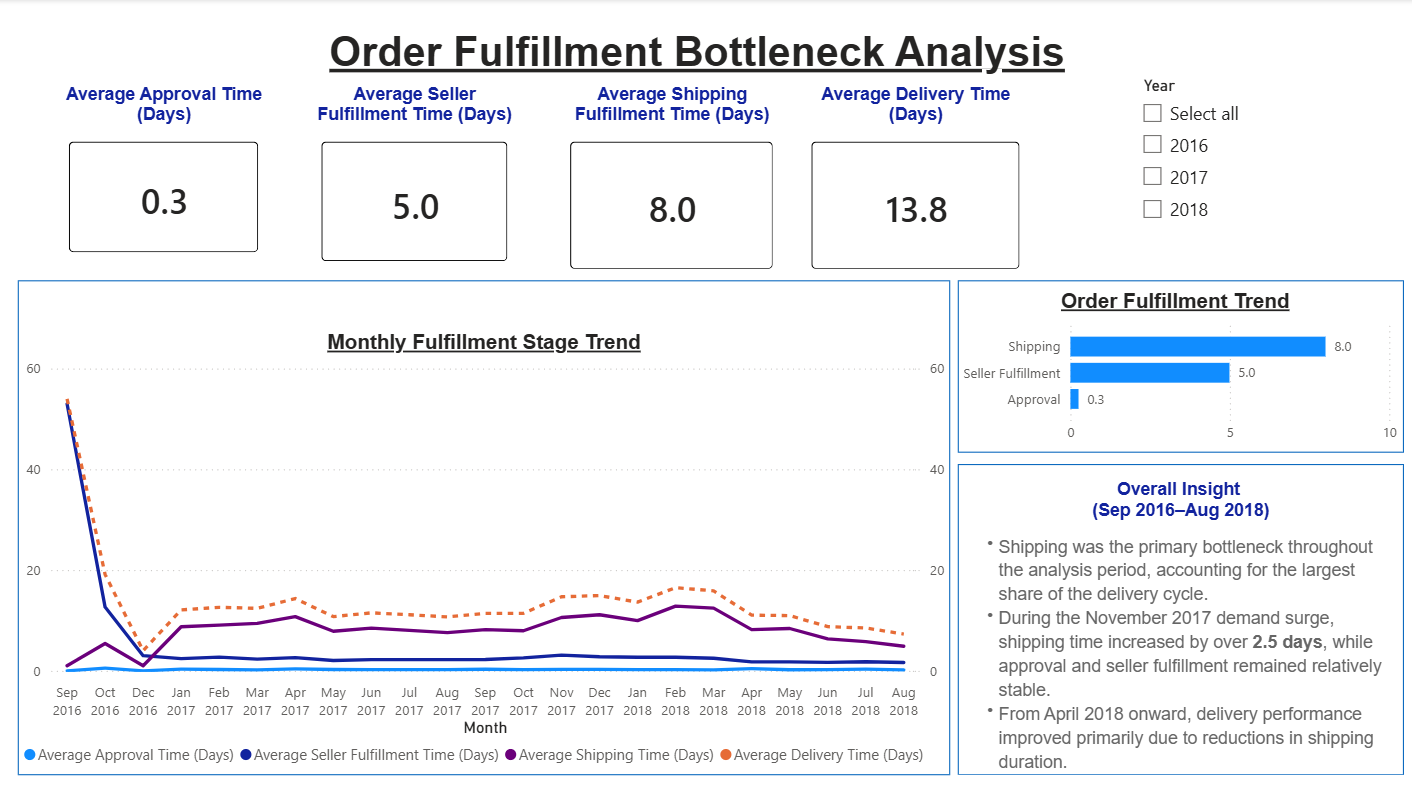

This screenshot's page, from the dashboard's own definition file:
{"tool":"powerbi","page":{"name":"Order Fulfillment Bottleneck Analysis","canvas":[1280,720],"ordinal":2},"visuals":[{"type":"lineChart","title":"Monthly Fulfillment Stage Trend","fields":{"Category":["Delivery Timeline.YearMonth"],"Y":["Avg(Delivery Timeline.approval_days)","Avg(Delivery Timeline.fulfillment_days)","Avg(Delivery Timeline.shipping_days)"],"Y2":["Avg(Delivery Timeline.total_delivery_days)"]},"box":[16.9,299.2,842.3,402],"z":0},{"type":"cardVisual","title":"Average Approval Time (Days)","fields":{"Data":["Avg(Delivery Timeline.approval_days)"]},"box":[46.3,76.8,205.5,169.4],"z":1000},{"type":"cardVisual","title":"Average Seller Fulfillment Time (Days)","fields":{"Data":["Avg(Delivery Timeline.fulfillment_days)"]},"box":[274.4,76.8,202.1,177.3],"z":2000},{"type":"textbox","box":[196.5,21.5,868.3,55.3],"z":3000},{"type":"textbox","box":[874,477.6,395.2,231.5],"z":4000},{"type":"textbox","box":[897.7,429.1,339.9,48.6],"z":5000},{"type":"slicer","fields":{"Values":["Delivery Timeline.Year"]},"box":[1020.9,64.1,150.4,168.2],"z":6000},{"type":"shape","box":[866.1,420,403.1,281.2],"z":7000},{"type":"cardVisual","title":"Average Shipping Fulfillment Time (Days)","fields":{"Data":["Avg(Delivery Timeline.shipping_days)"]},"box":[499.1,76.8,217.9,185.2],"z":8000},{"type":"barChart","title":"Order Fulfillment Trend","fields":{"Category":["Fulfillment Stage.Stage"],"Y":["Fulfillment Stage.Average Stage Time"]},"box":[857,262,411,147.9],"z":9000},{"type":"cardVisual","title":"Average Delivery Time (Days)","fields":{"Data":["Avg(Delivery Timeline.total_delivery_days)"]},"box":[717,76.8,222.4,185.2],"z":10000},{"type":"shape","box":[866.1,254.1,403.1,155.8],"z":11000},{"type":"shape","box":[16.9,254.1,842.3,447.1],"z":12000}]}

Visuals, with their boxes in screenshot pixels (x1, y1, x2, y2), scaled from the page's 1280x720 canvas onto the 1412x791 screenshot:
"Monthly Fulfillment Stage Trend" lineChart: [left=19, top=329, right=948, bottom=770]
"Average Approval Time (Days)" cardVisual: [left=51, top=84, right=278, bottom=270]
"Average Seller Fulfillment Time (Days)" cardVisual: [left=303, top=84, right=526, bottom=279]
textbox: [left=217, top=24, right=1175, bottom=84]
textbox: [left=964, top=525, right=1400, bottom=779]
textbox: [left=990, top=471, right=1365, bottom=525]
slicer - Delivery Timeline.Year: [left=1126, top=70, right=1292, bottom=255]
shape: [left=955, top=461, right=1400, bottom=770]
"Average Shipping Fulfillment Time (Days)" cardVisual: [left=551, top=84, right=791, bottom=288]
"Order Fulfillment Trend" barChart: [left=945, top=288, right=1399, bottom=450]
"Average Delivery Time (Days)" cardVisual: [left=791, top=84, right=1036, bottom=288]
shape: [left=955, top=279, right=1400, bottom=450]
shape: [left=19, top=279, right=948, bottom=770]
